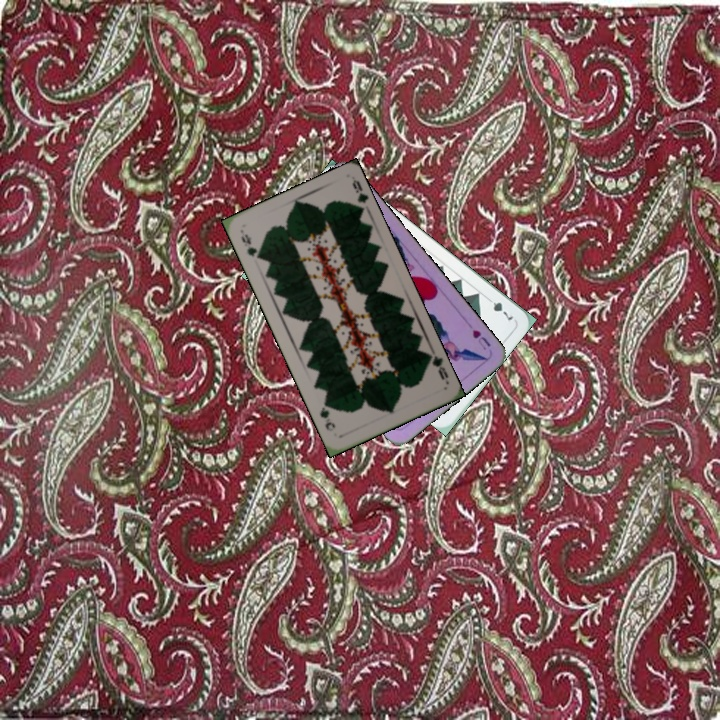G7: (482, 293, 517, 323)
G9: (424, 349, 451, 383), (237, 229, 264, 262)
HU: (468, 325, 493, 353)
